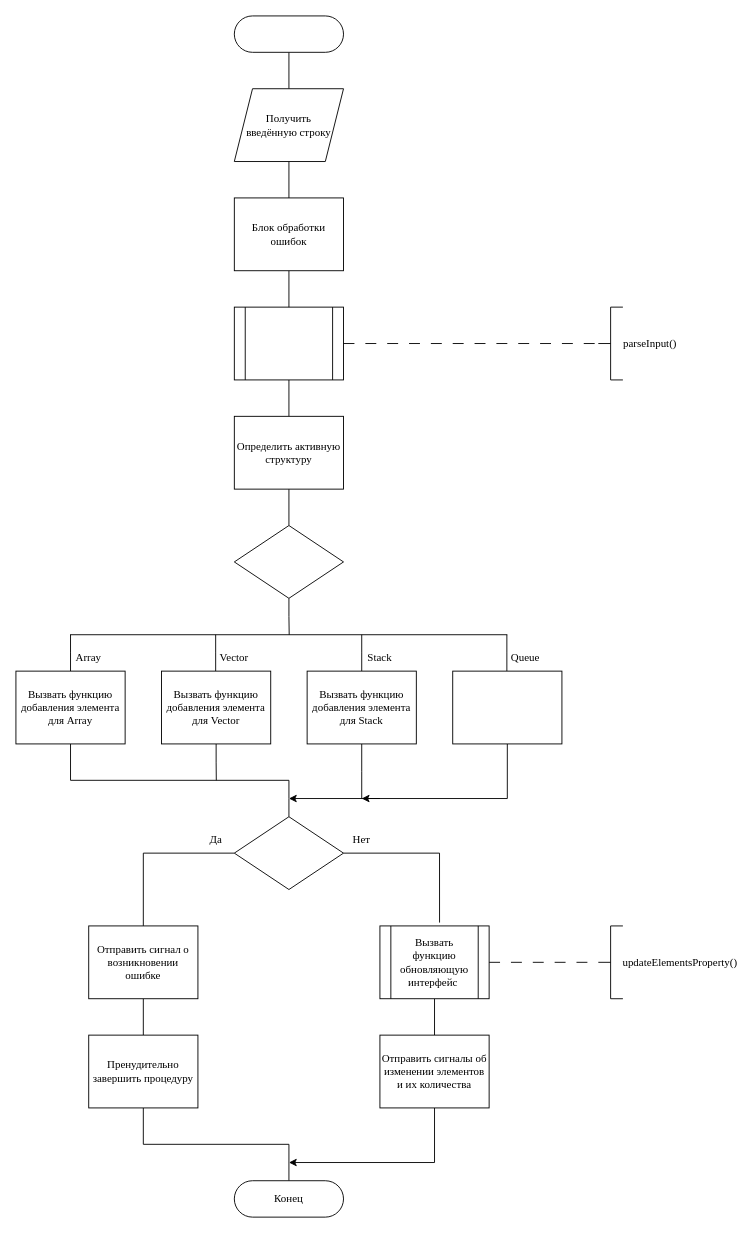
Image size: 753x1233. Some labels were removed from this diagram. The shapes that lost their labels are listed below. From the top down, each one's centre as x and y in pixels, then its label:
(288,33): Начало
(288,343): Преобразовать строку в элемент нужного типа
(288,561): Активный тип структуры?
(507,707): Вызвать функцию добавления элемента для Queue
(288,853): Была ли ошибка?
